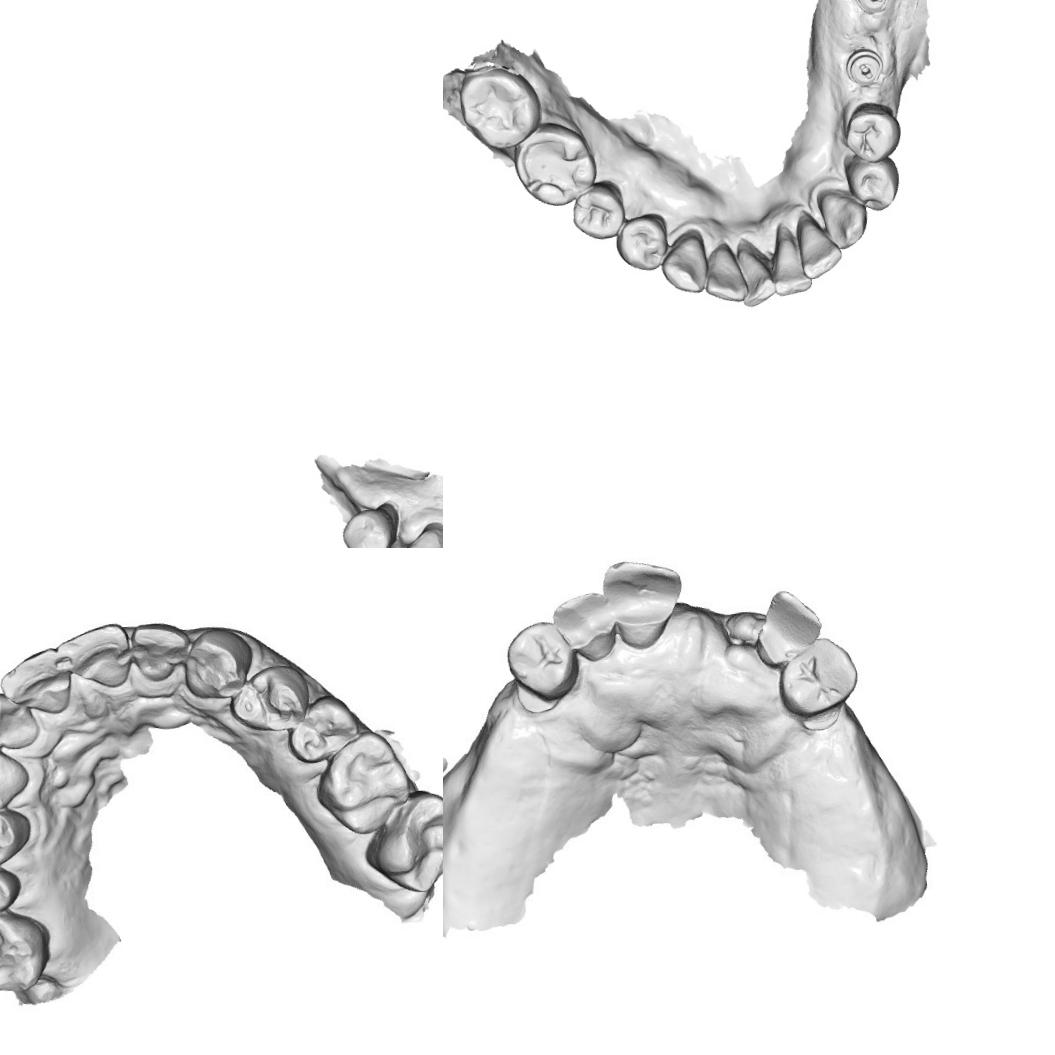canine: (183, 626, 252, 708), (807, 187, 870, 250), (658, 222, 708, 298), (0, 744, 30, 816), (393, 522, 443, 548)
implant_minus: (842, 46, 887, 90), (852, 0, 893, 17)
incisor: (600, 554, 688, 648), (778, 632, 860, 722), (748, 586, 820, 668), (133, 612, 204, 688), (60, 620, 133, 692), (548, 589, 618, 664), (0, 648, 72, 718), (794, 214, 844, 281), (767, 231, 815, 298), (701, 240, 750, 304), (0, 693, 44, 762), (734, 244, 778, 307)
molar: (320, 730, 408, 831), (509, 118, 599, 210), (455, 62, 543, 154), (370, 793, 443, 899), (0, 910, 51, 998)
premolar: (232, 662, 312, 738), (504, 618, 578, 700), (286, 694, 365, 766), (841, 104, 905, 165), (612, 210, 672, 273), (568, 180, 628, 242), (844, 156, 902, 212), (338, 505, 396, 548), (0, 805, 31, 878), (0, 863, 18, 928)
